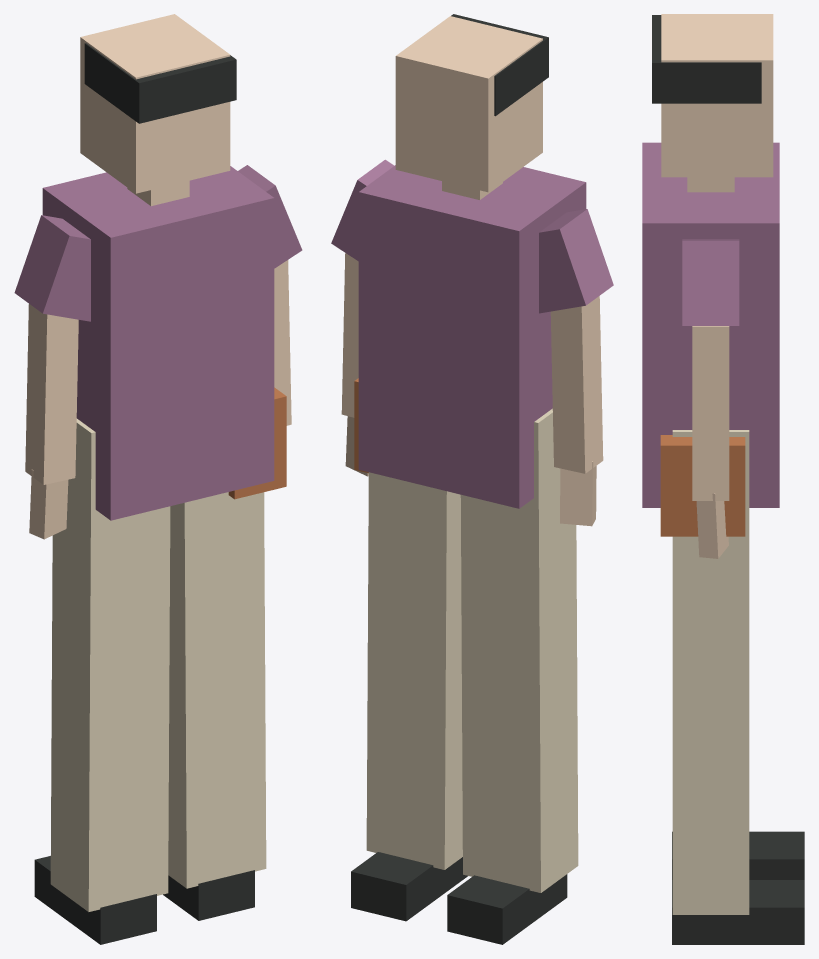
The model's file is pedestrian_07_far.glb.
3 renders of one model, left to right at view 1: azimuth 30°, elevation 25°; view 2: azimuth 150°, elevation 25°; view 3: azimuth 270°, elevation 25°, orthographic. The views are drawn at different scales.
Parts seen in each view (by area): view 1: pedestrian_07 crowd_trousers.001, pedestrian_07 crowd_shirt.001, pedestrian_07 crowd_skin.001, pedestrian_07 crowd_rubber.001, pedestrian_07 crowd_accessory.001; view 2: pedestrian_07 crowd_trousers.001, pedestrian_07 crowd_shirt.001, pedestrian_07 crowd_skin.001, pedestrian_07 crowd_rubber.001; view 3: pedestrian_07 crowd_shirt.001, pedestrian_07 crowd_trousers.001, pedestrian_07 crowd_skin.001, pedestrian_07 crowd_rubber.001, pedestrian_07 crowd_accessory.001.
Part boxes in pixels (left/top/right/bottom): pedestrian_07 crowd_trousers.001: left=50, top=418, right=266, bottom=911; pedestrian_07 crowd_shirt.001: left=14, top=165, right=302, bottom=520; pedestrian_07 crowd_skin.001: left=25, top=14, right=291, bottom=539; pedestrian_07 crowd_rubber.001: left=34, top=43, right=254, bottom=944; pedestrian_07 crowd_accessory.001: left=228, top=387, right=286, bottom=499; pedestrian_07 crowd_trousers.001: left=366, top=408, right=578, bottom=892; pedestrian_07 crowd_shirt.001: left=331, top=159, right=613, bottom=508; pedestrian_07 crowd_skin.001: left=341, top=16, right=603, bottom=526; pedestrian_07 crowd_rubber.001: left=351, top=14, right=567, bottom=944; pedestrian_07 crowd_shirt.001: left=642, top=142, right=779, bottom=507; pedestrian_07 crowd_trousers.001: left=672, top=430, right=749, bottom=914; pedestrian_07 crowd_skin.001: left=661, top=14, right=773, bottom=558; pedestrian_07 crowd_rubber.001: left=652, top=15, right=804, bottom=944; pedestrian_07 crowd_accessory.001: left=660, top=435, right=745, bottom=536.
Size of the model in its own units: 0.5488 by 1.74 by 0.2952.
